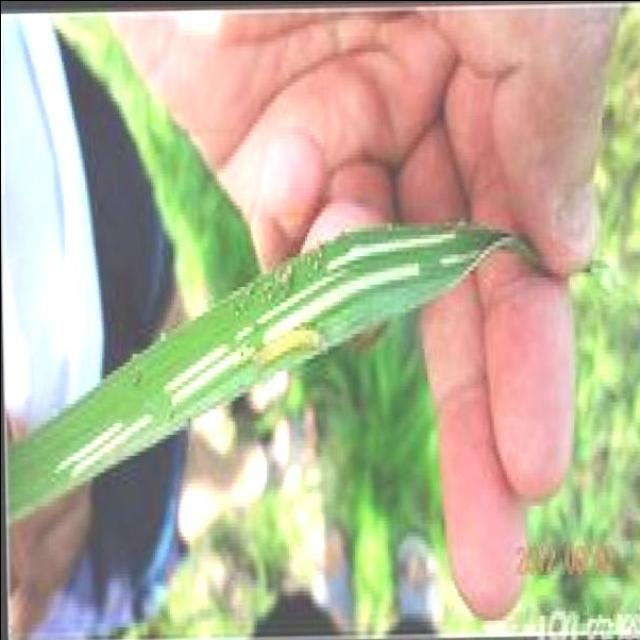leaf folder: (230, 327, 326, 365)
